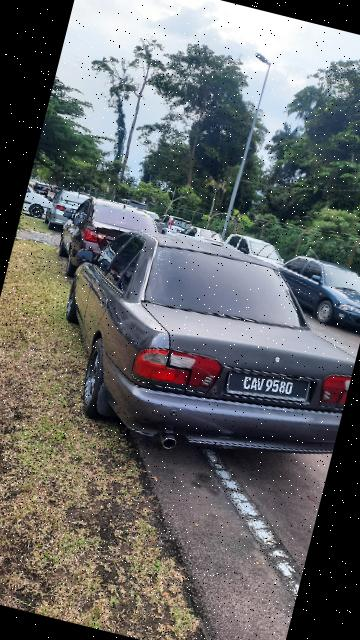License_Plate: (212, 353, 316, 416)
car: (33, 208, 360, 492)
